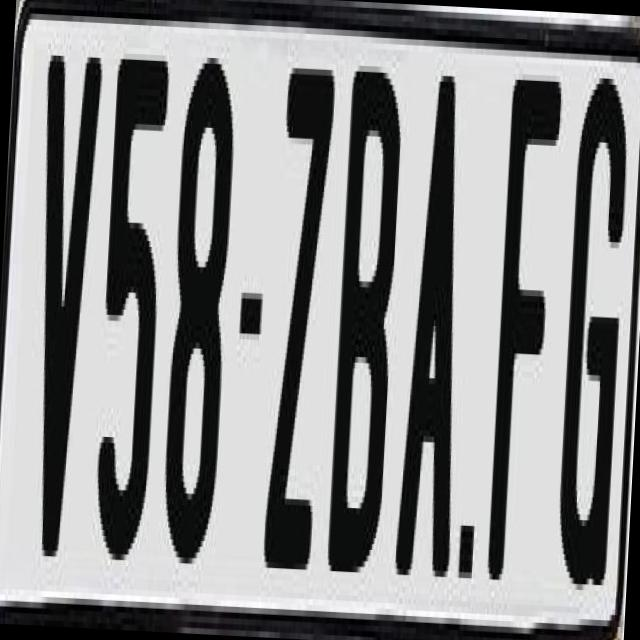5: (90, 53, 170, 567)
8: (160, 45, 240, 588)
A: (393, 57, 475, 589)
B: (326, 60, 414, 598)
F: (484, 68, 564, 576)
G: (552, 59, 628, 580)
V: (17, 54, 108, 594)
Z: (262, 50, 337, 582)
